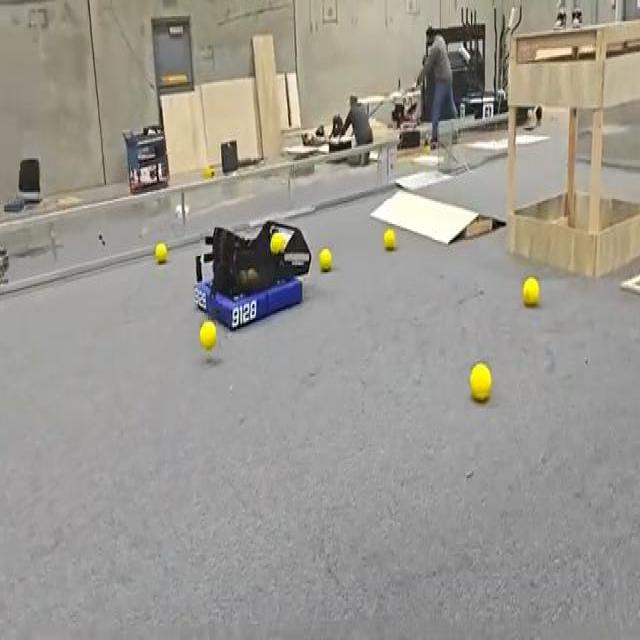Fuel: (469, 362, 492, 402), (469, 362, 491, 402), (199, 320, 216, 350), (522, 277, 539, 306), (199, 320, 216, 348), (154, 242, 168, 265), (383, 228, 396, 250), (318, 249, 331, 270), (270, 233, 284, 252), (384, 228, 396, 250), (155, 242, 167, 264)
